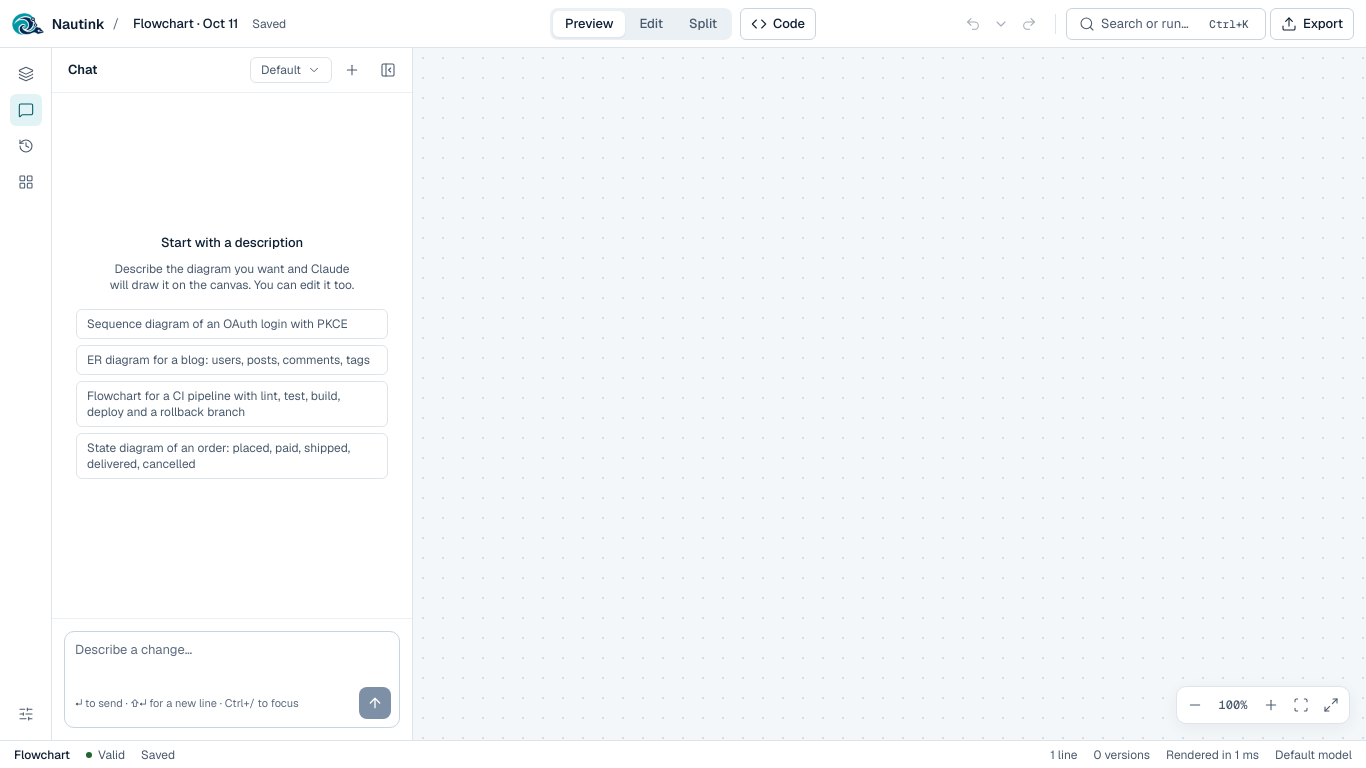
Test case: App shell › opens the palette with the keyboard and runs a command
Type keys "{Control>}k{/Control}"
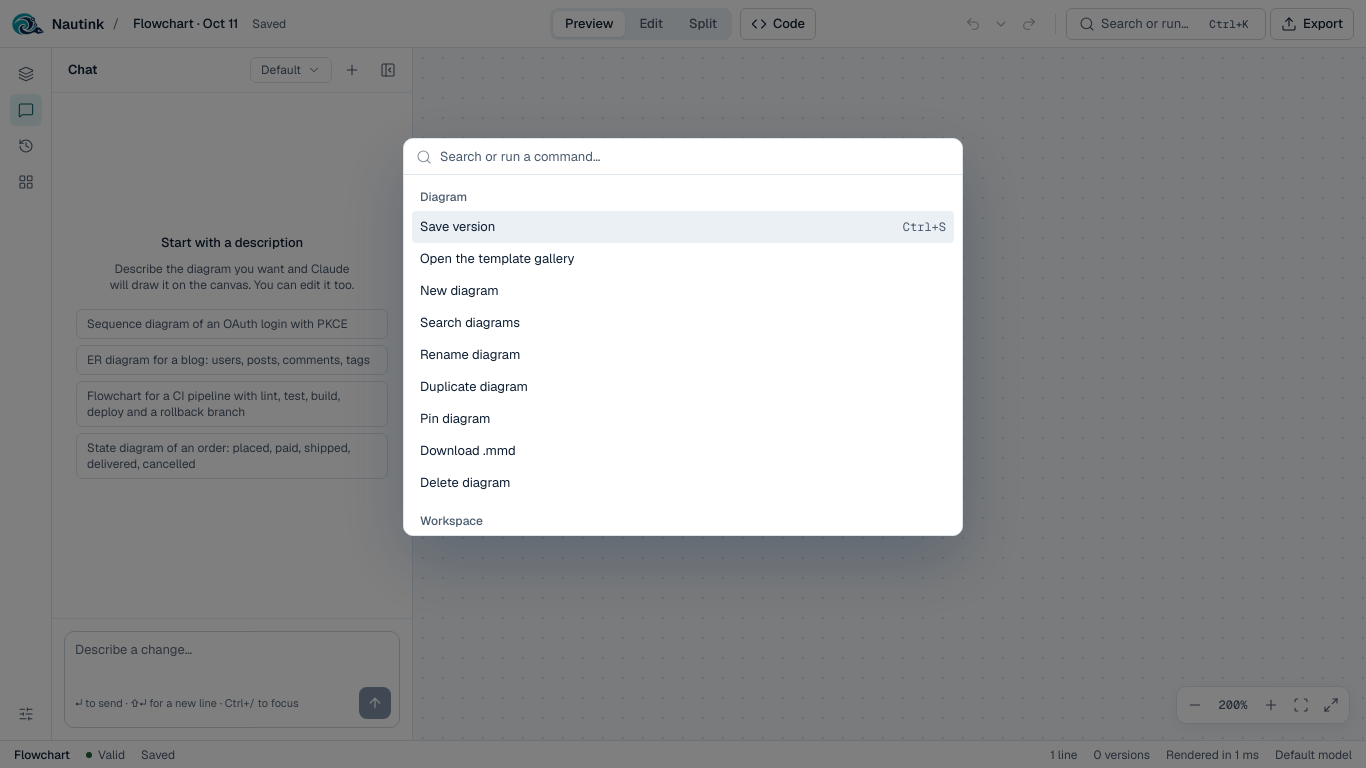
Type "show history" into the dropdown at x=695, y=157, box [440,135,950,179]
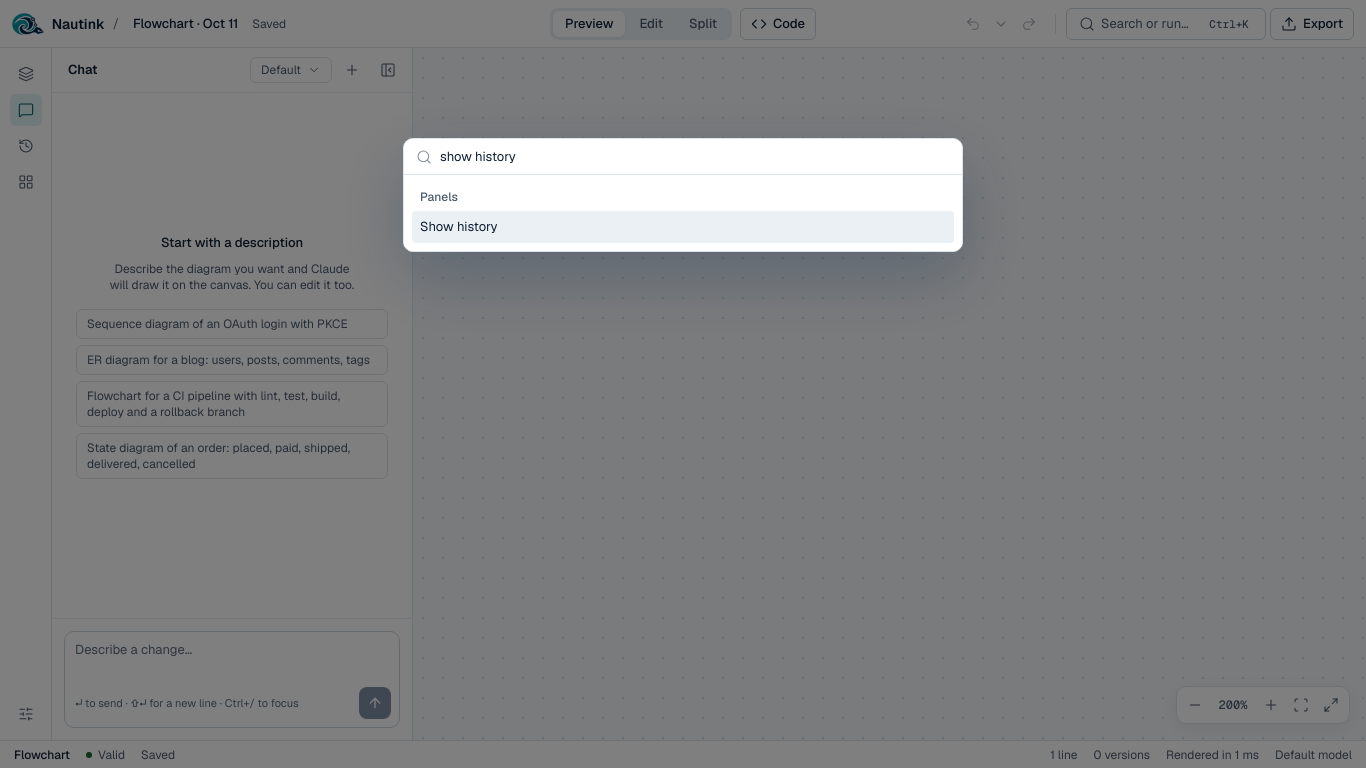
Press Enter
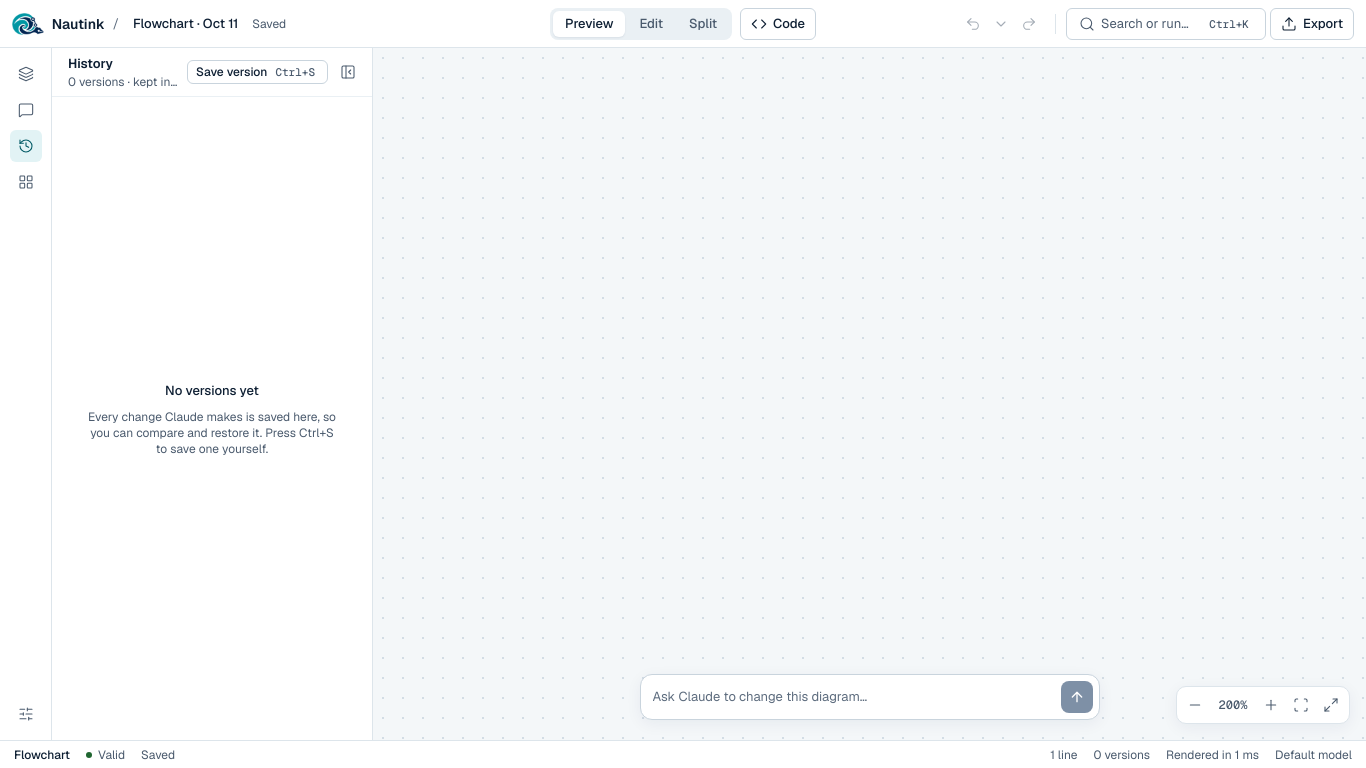
Expected: the dialog "Command palette" is not shown
Result: the element "History" is shown at [52,48,372,740]
